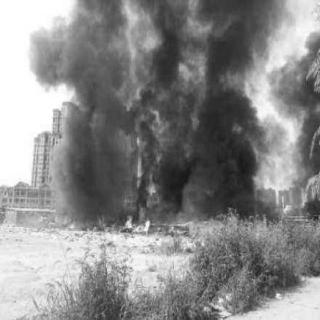Fire: (50, 196, 156, 232)
